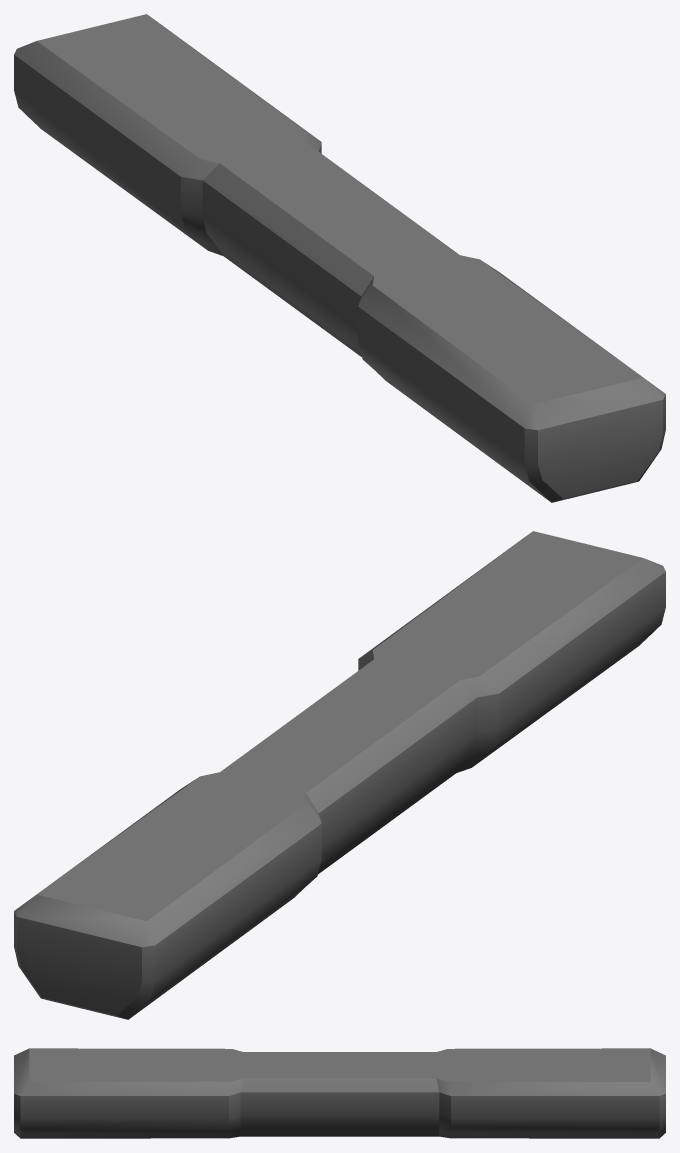
The model's file is Lamp2.fbx.
The picture shows the model from 3 angles, top to bottom: view 1: azimuth 30°, elevation 25°; view 2: azimuth 150°, elevation 25°; view 3: azimuth 270°, elevation 25°; orthographic projection. The views are drawn at different scales.
Parts seen in each view (by area): view 1: Lamp2; view 2: Lamp2; view 3: Lamp2.
Part boxes in pixels (bbox=[...]): Lamp2: bbox=[14, 14, 665, 502]; Lamp2: bbox=[14, 531, 665, 1019]; Lamp2: bbox=[14, 1048, 665, 1138].
Bounding box in the file's own units: 0.3 × 1.92 × 0.2081.
